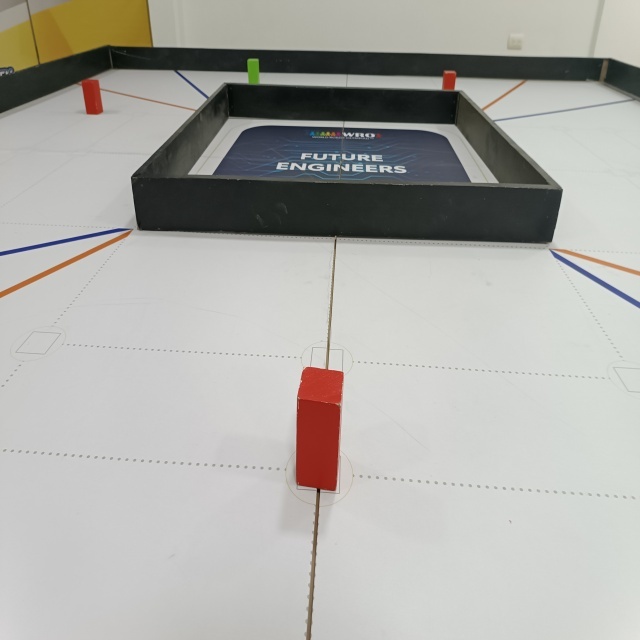blue line: (545, 252, 640, 318), (487, 94, 640, 121), (0, 223, 128, 255), (172, 64, 214, 102)
orange line: (0, 227, 138, 301), (70, 74, 201, 115), (554, 241, 640, 279), (477, 77, 527, 111)
red rectangular prism: (291, 368, 348, 495), (78, 80, 108, 119), (439, 63, 461, 95)
